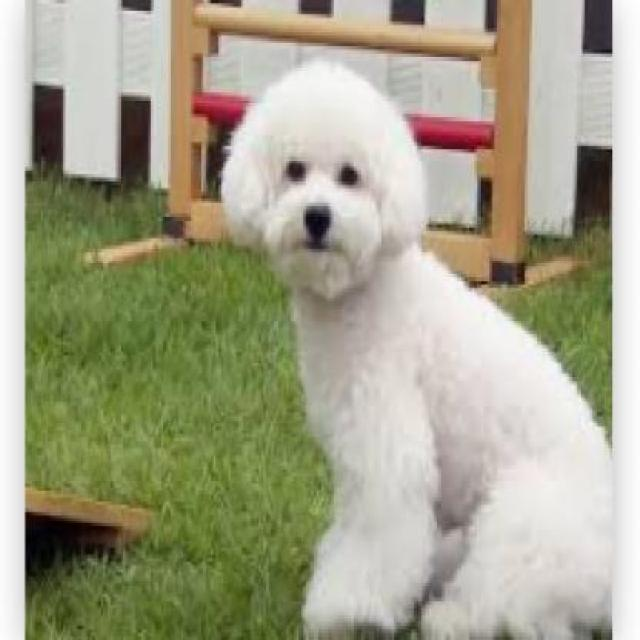Dog: (216, 49, 610, 638)
